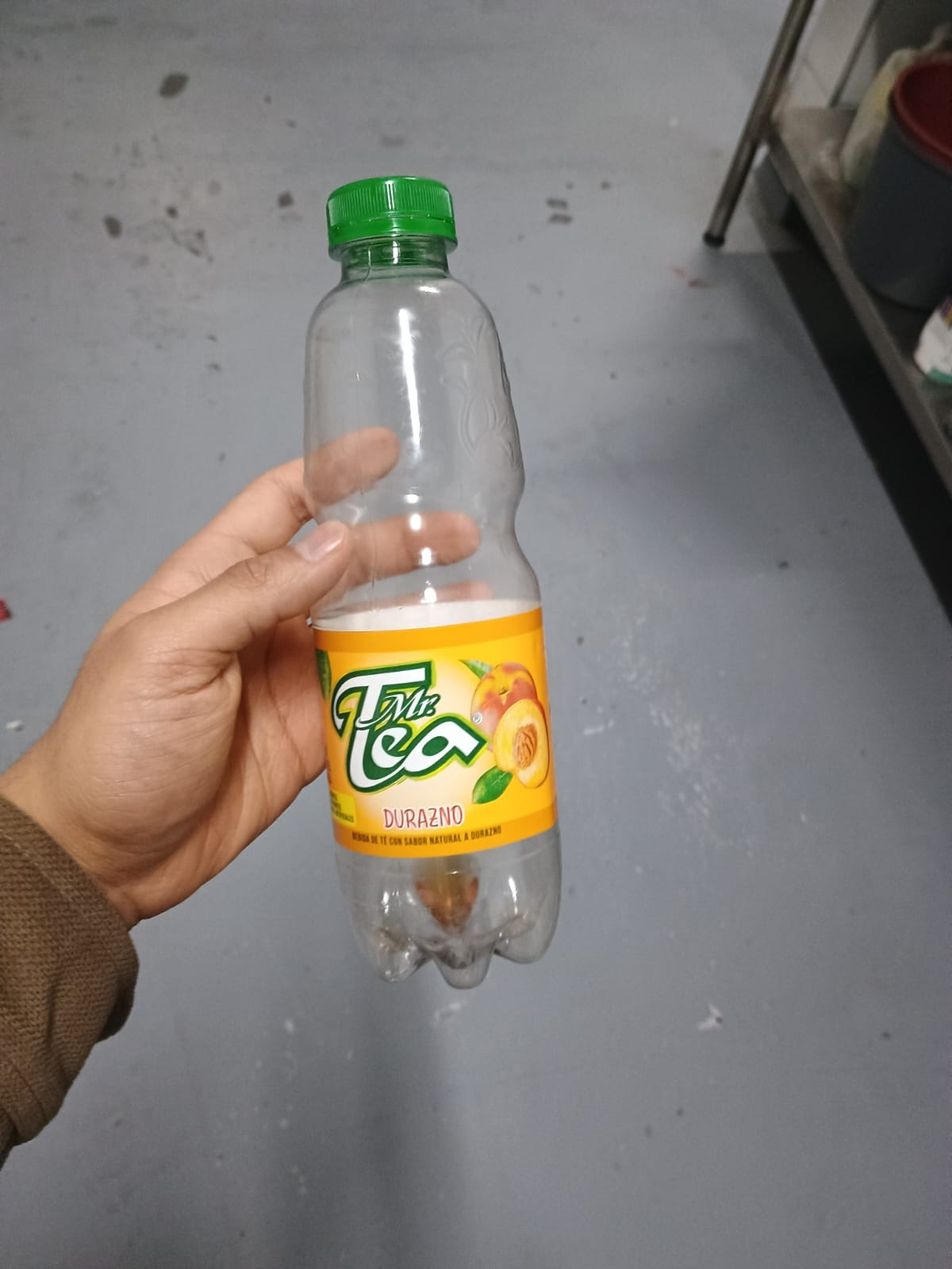Plastico: (299, 175, 561, 991)
